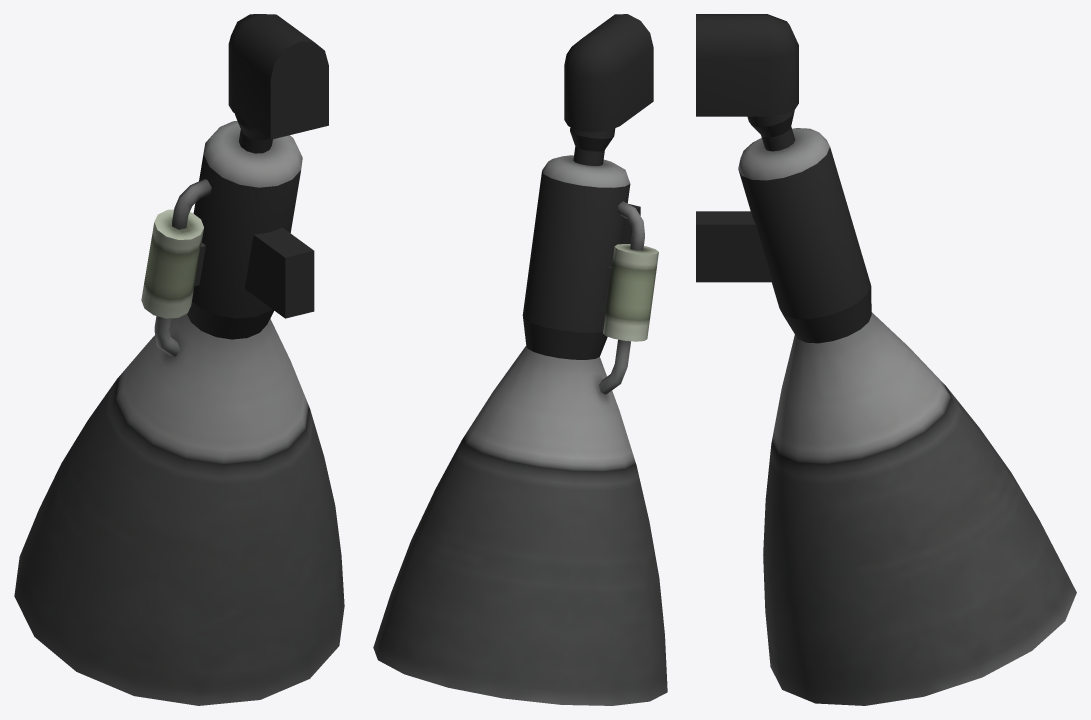
File: vega_engine_srf_1_2.obj
3 renders of one model, left to right at view 1: azimuth 30°, elevation 25°; view 2: azimuth 150°, elevation 25°; view 3: azimuth 270°, elevation 25°, orthographic. The views are drawn at different scales.
Parts seen in each view (by area): view 1: vega_engine_srf_1_2; view 2: vega_engine_srf_1_2; view 3: vega_engine_srf_1_2.
Part boxes in pixels (left/top/right/bottom): vega_engine_srf_1_2: left=14, top=14, right=344, bottom=705; vega_engine_srf_1_2: left=373, top=14, right=667, bottom=705; vega_engine_srf_1_2: left=696, top=14, right=1076, bottom=705.
Bounding box in the file's own units: 0.25 × 0.5653 × 0.3002.
